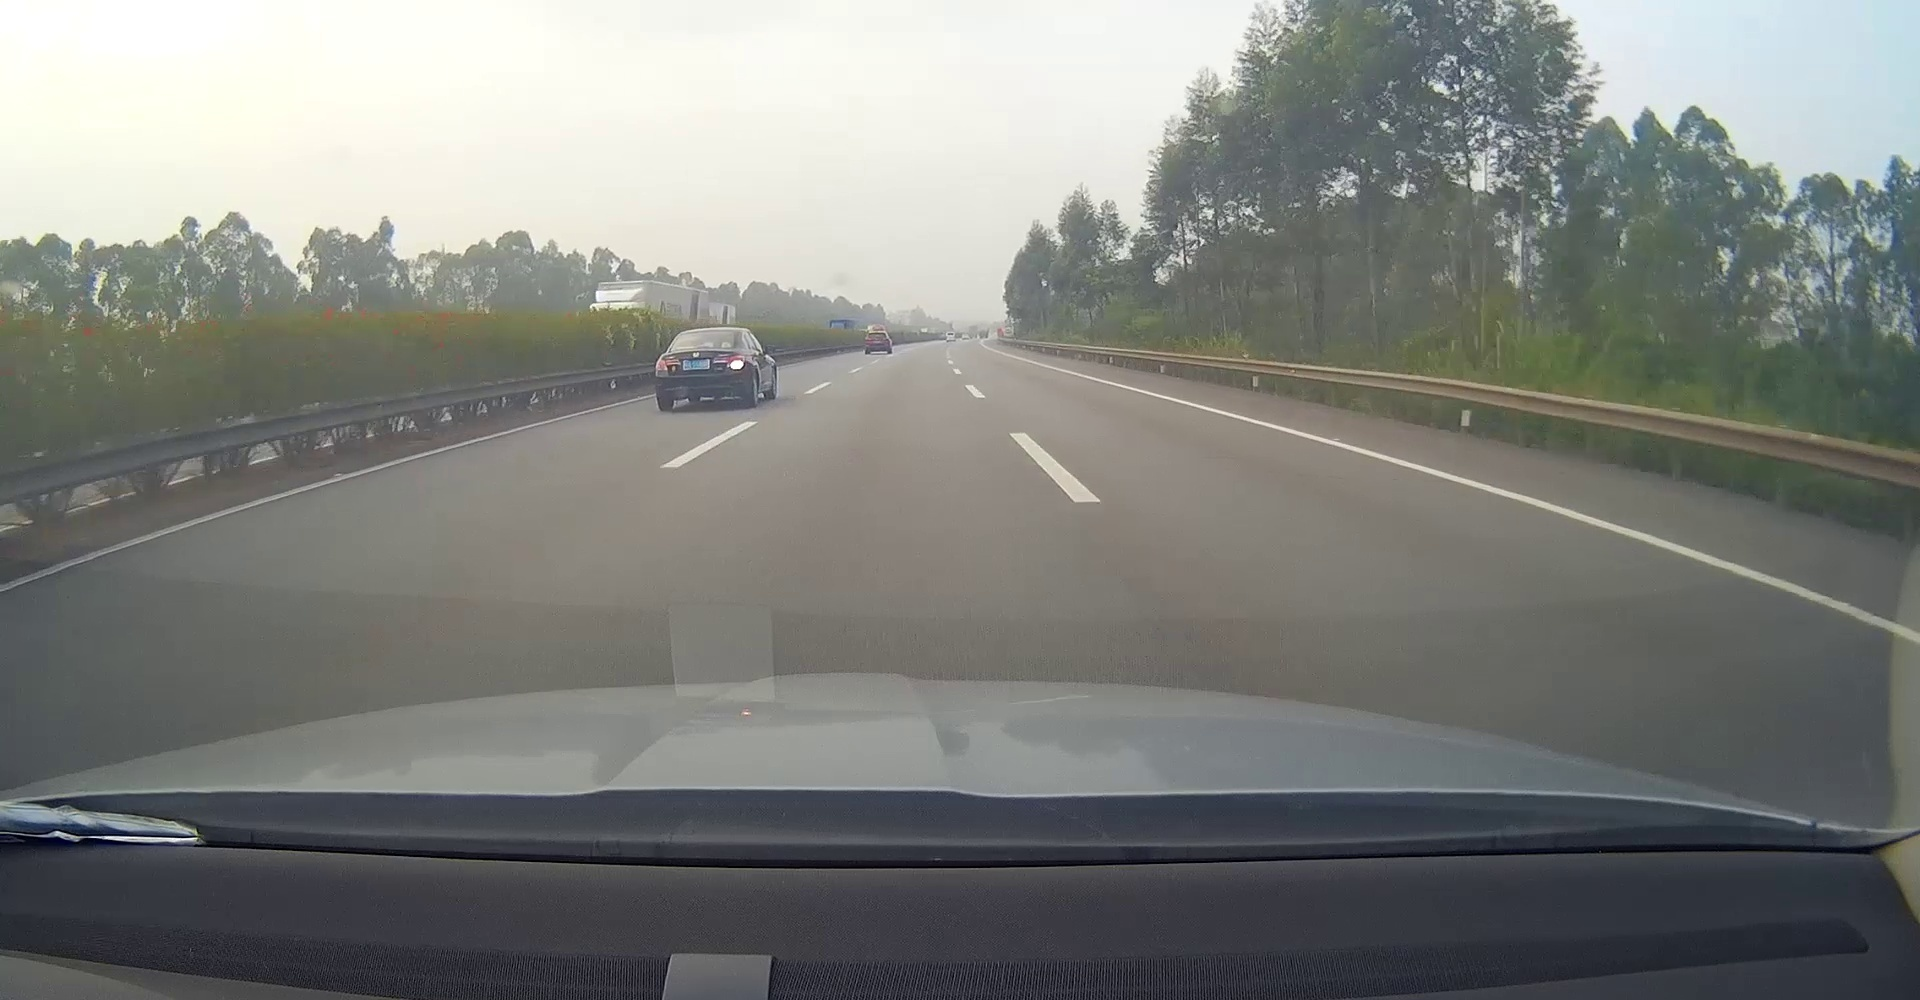L_light: (655, 357, 681, 371)
R_light: (712, 354, 745, 371)
T_light: (703, 331, 716, 332)
day-right: (653, 327, 749, 411)
